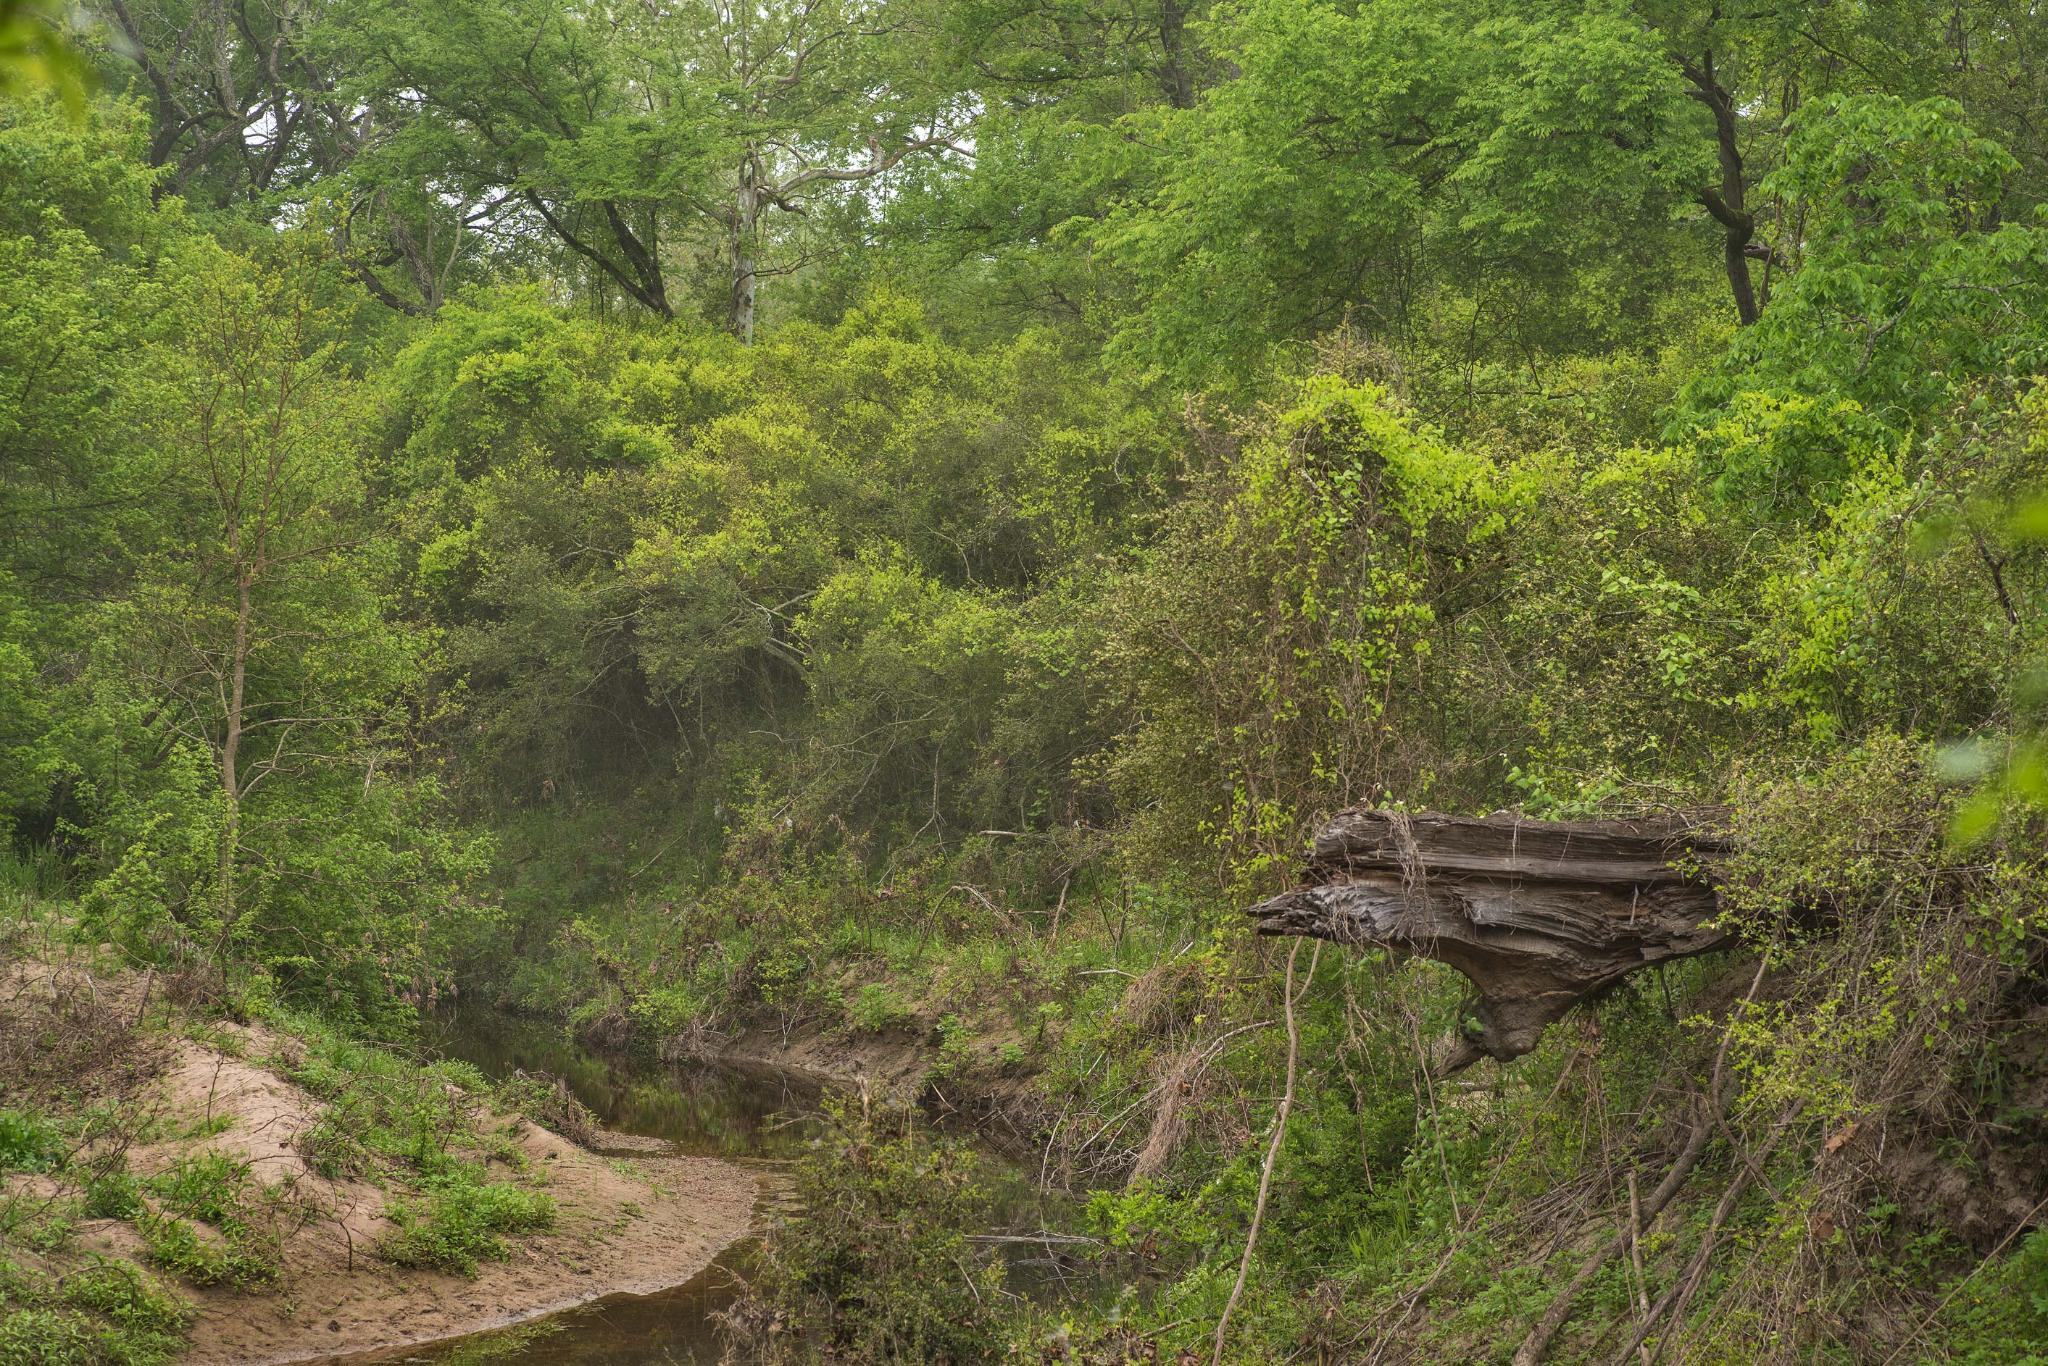overgrown grass: (325, 1046, 520, 1206), (17, 1284, 183, 1366), (171, 1163, 273, 1293), (382, 1195, 515, 1267), (88, 1171, 151, 1226), (11, 1122, 61, 1171)
